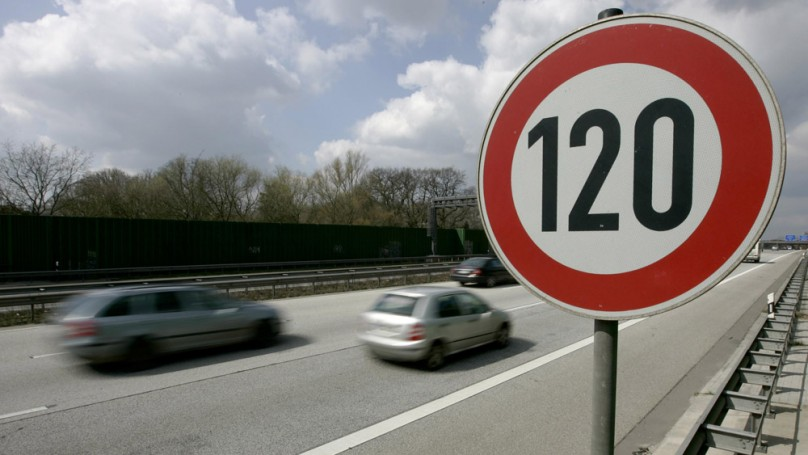Speed_limit_120km: (474, 14, 788, 320)
